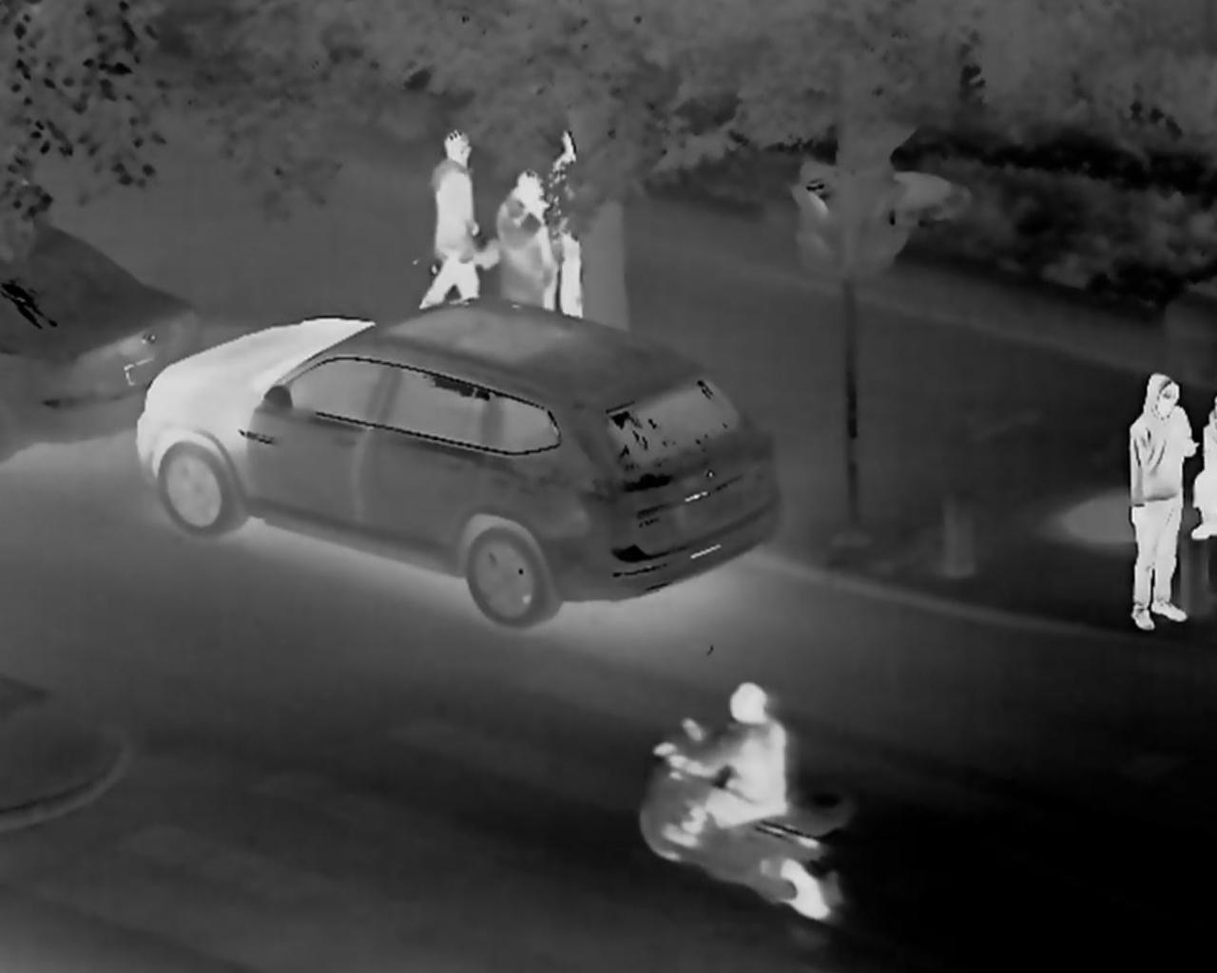person: (656, 678, 793, 849), (1127, 372, 1194, 629), (416, 122, 487, 312), (493, 163, 555, 316), (547, 129, 587, 316)
